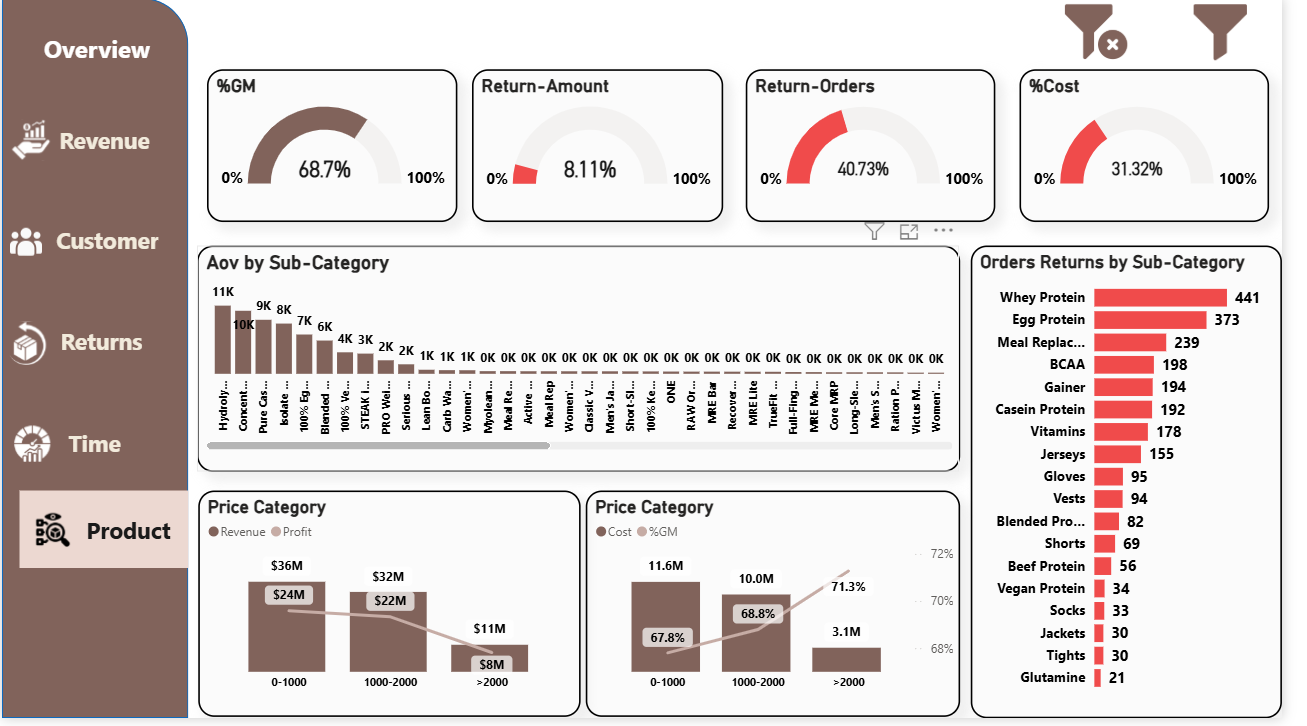

The dashboard page shown, as its layout file describes it:
{"tool":"powerbi","page":{"name":"Produdct Analysus","canvas":[1280,720],"ordinal":5},"visuals":[{"type":"shape","box":[0,0,186.2,720],"z":2000},{"type":"actionButton","box":[12.5,0,165,100],"z":3000},{"type":"actionButton","box":[1.2,105,186.2,72.5],"z":4000},{"type":"clusteredColumnChart","title":"Aov by Sub-Category","fields":{"Y":["Calculation.AOV"],"Category":["Product.ProductName"]},"box":[194.9,247.1,762.9,226.7],"z":5000},{"type":"actionButton","box":[1.2,202.1,185,77.5],"z":6000},{"type":"actionButton","box":[0,223.8,47.5,40],"z":7000},{"type":"actionButton","box":[2.5,304.2,185,77.5],"z":8000},{"type":"actionButton","box":[0,406.2,185,77.5],"z":9000},{"type":"actionButton","box":[17.5,492.5,168.8,77.5],"z":10000},{"type":"lineClusteredColumnComboChart","title":"Price Category","fields":{"Category":["Sales Detalis.unit-Price(Category)"],"Y":["Calculation.Revenue"],"Y2":["Calculation.Profit"]},"box":[196.1,492.9,382.1,226.7],"z":11000},{"type":"lineClusteredColumnComboChart","title":"Price Category","fields":{"Category":["Sales Detalis.unit-Price(Category)"],"Y":["Calculation.Cost"],"Y2":["Calculation.%GM"]},"box":[583.3,492.9,374.4,226.7],"z":12000},{"type":"gauge","fields":{"Y":["Calculation.%GM"]},"box":[205,71.2,250,152.5],"z":13000},{"type":"clusteredBarChart","title":"Orders Returns by Sub-Category","fields":{"Y":["Returns.Returns Order"],"Category":["Product.Product Sub Category"]},"box":[968.6,247.1,311.4,472.9],"z":14000},{"type":"gauge","title":"Return-Orders ","fields":{"Y":["Returns.R-Orders -All Year-"]},"box":[743.8,71.3,249.6,152.8],"z":15000},{"type":"gauge","fields":{"Y":["Calculation.%Cost"]},"box":[1017.6,71.3,249.6,152.8],"z":16000},{"type":"gauge","title":"Return-Amount","fields":{"Y":["Returns.R-Amount -All Year-"]},"box":[470,71.3,250.9,152.8],"z":17000},{"type":"image","box":[1032.9,2.5,123.5,62.4],"z":18000},{"type":"image","box":[1156.2,6.2,123.8,56.2],"z":19000},{"type":"actionButton","box":[1.2,117.5,55,48.8],"z":21000},{"type":"actionButton","box":[0,422.5,60,46.2],"z":22000},{"type":"actionButton","box":[26.2,508.8,50,46.2],"z":23000},{"type":"actionButton","box":[0,311.2,51.2,62.5],"z":24000}]}

Visuals, with their boxes in screenshot pixels (x1, y1, x2, y2):
shape: (0,0,185,712)
actionButton: (12,0,176,96)
actionButton: (1,101,186,173)
"Aov by Sub-Category" clusteredColumnChart: (194,242,951,467)
actionButton: (1,197,185,274)
actionButton: (0,219,47,259)
actionButton: (2,299,186,376)
actionButton: (0,400,184,477)
actionButton: (17,486,185,563)
"Price Category" lineClusteredColumnComboChart: (195,486,574,711)
"Price Category" lineClusteredColumnComboChart: (579,486,951,711)
gauge - Calculation.%GM: (204,67,452,219)
"Orders Returns by Sub-Category" clusteredBarChart: (962,242,1271,712)
"Return-Orders " gauge: (739,67,986,219)
gauge - Calculation.%Cost: (1010,67,1258,219)
"Return-Amount" gauge: (467,67,716,219)
image: (1026,0,1148,61)
image: (1148,3,1271,59)
actionButton: (1,113,56,162)
actionButton: (0,416,60,462)
actionButton: (26,502,76,548)
actionButton: (0,306,51,368)
